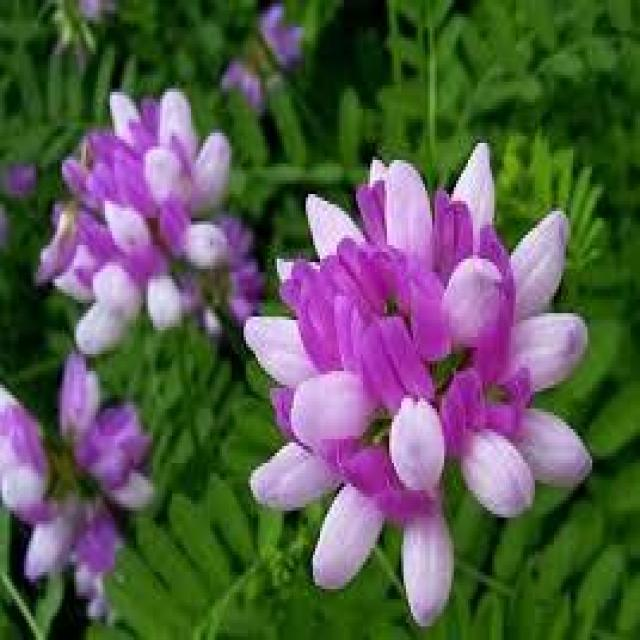organic waste: (259, 160, 584, 589), (42, 85, 257, 320), (8, 354, 120, 616)
